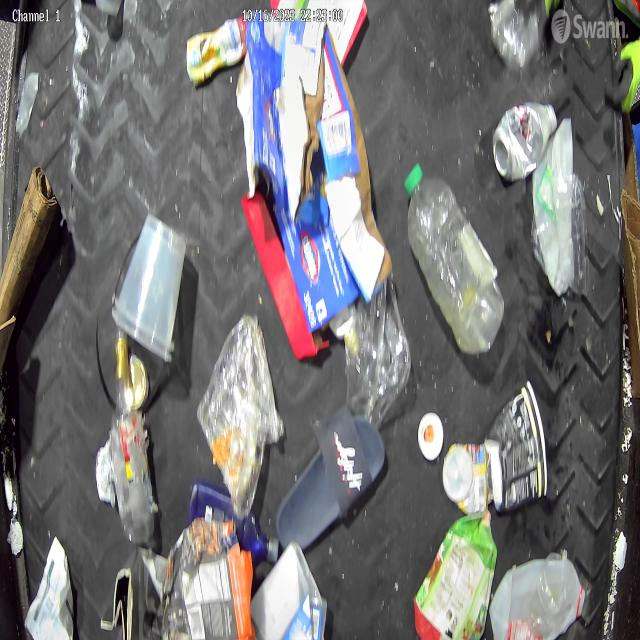can: (124, 354, 150, 411)
milk_jug: (490, 550, 588, 640)
plastic_bottle: (402, 162, 502, 356)
